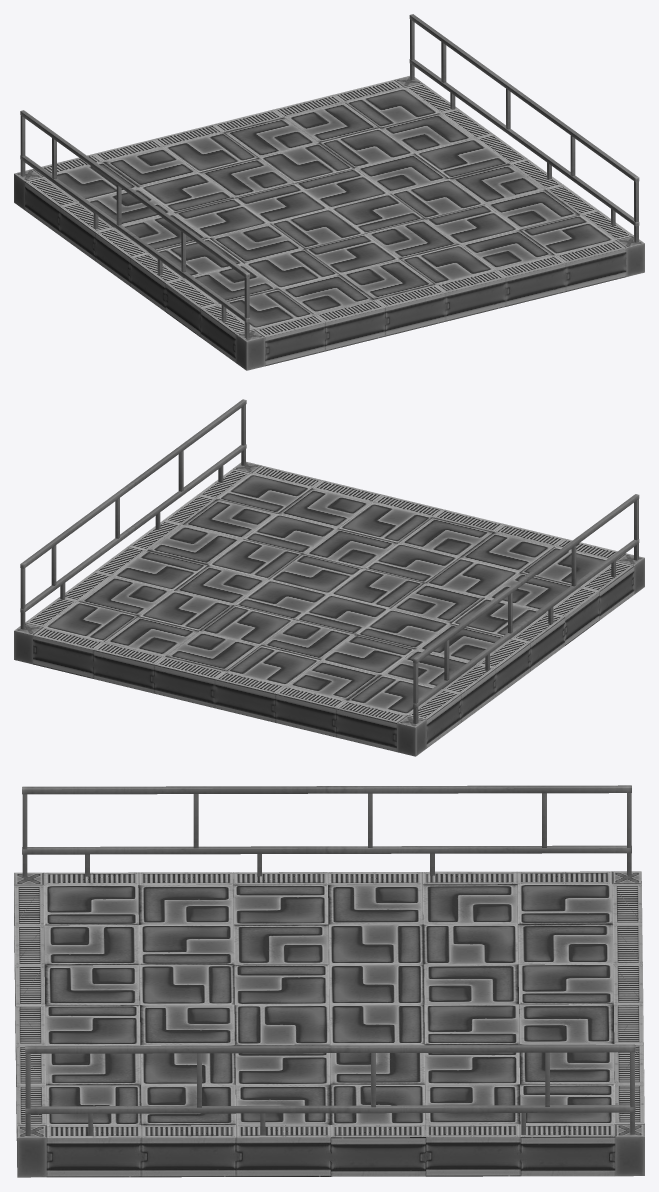
File: ARC1110011.fbx
3 renders of one model, top to bottom at view 1: azimuth 30°, elevation 25°; view 2: azimuth 150°, elevation 25°; view 3: azimuth 270°, elevation 25°, orthographic. The views are drawn at different scales.
Visible parts, largest first — view 1: smARC1110011; view 2: smARC1110011; view 3: smARC1110011.
Boxes of the visible parts, x1,y1,x2,y2 form: smARC1110011: (14, 14, 644, 370); smARC1110011: (14, 399, 644, 756); smARC1110011: (14, 785, 644, 1177).
Bounding box in the file's own units: 797 × 177 × 797.
1 material, 1 textured.
